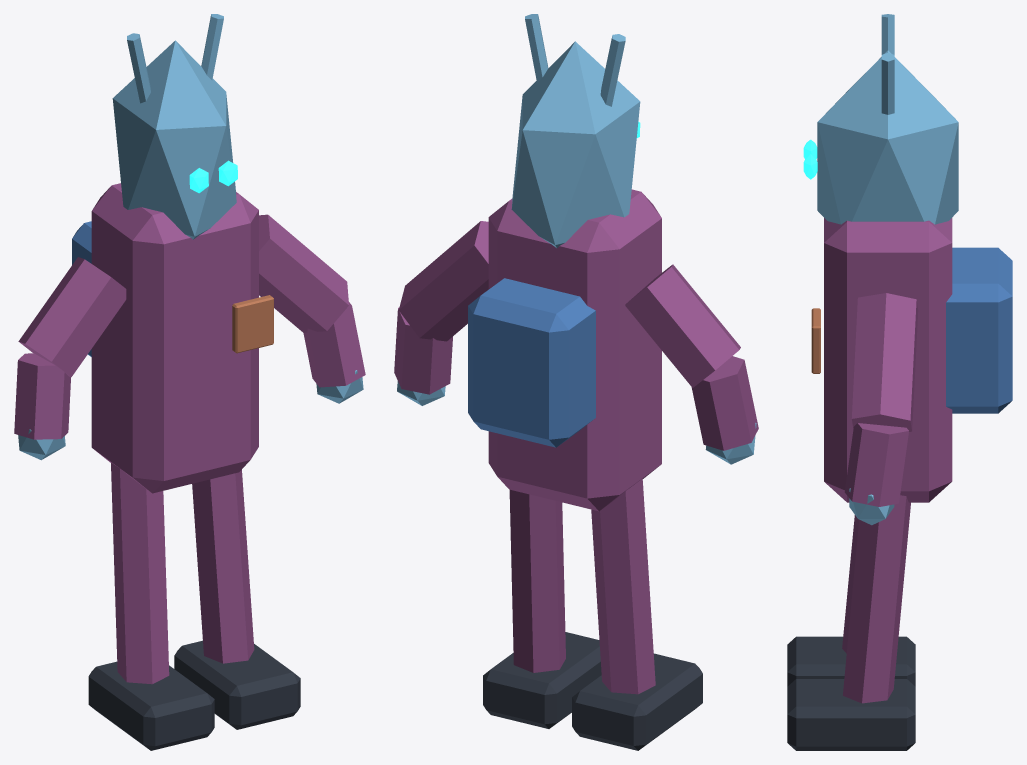
File: npcs_031_seed78877.glb
The picture shows the model from 3 angles, left to right: view 1: azimuth 30°, elevation 25°; view 2: azimuth 150°, elevation 25°; view 3: azimuth 270°, elevation 25°; orthographic projection. The views are drawn at different scales.
Parts seen in each view (by area): view 1: npcs_031_seed78877; view 2: npcs_031_seed78877; view 3: npcs_031_seed78877.
Part boxes in pixels (x1,y1,x2,y2): npcs_031_seed78877: [14, 14, 365, 750]; npcs_031_seed78877: [394, 14, 758, 750]; npcs_031_seed78877: [787, 14, 1012, 750].
Size of the model in its own units: 0.9866 by 1.85 by 0.5544.
